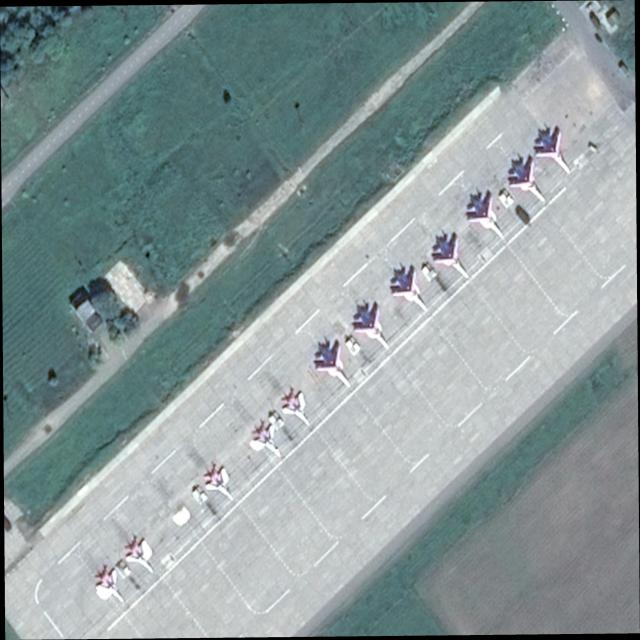plane: (498, 148, 557, 214), (306, 332, 363, 399), (459, 182, 515, 250), (525, 117, 581, 184), (344, 292, 399, 360), (425, 225, 479, 291), (384, 259, 437, 324), (118, 530, 164, 583), (245, 416, 291, 468), (88, 561, 133, 614), (197, 458, 242, 510), (276, 383, 318, 434)
